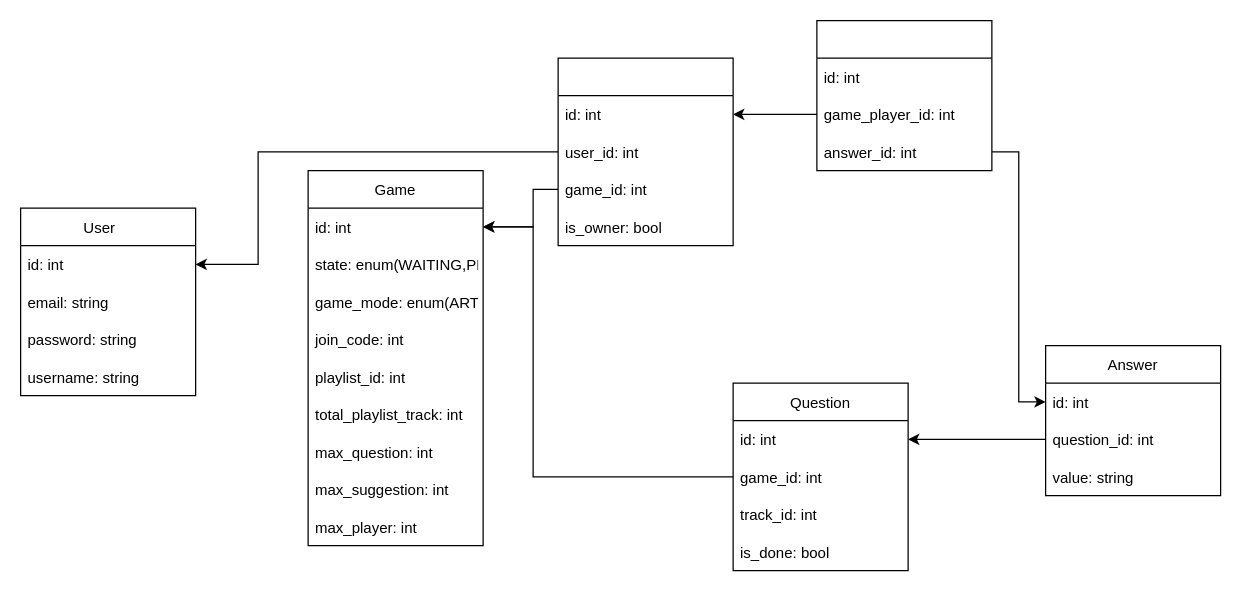
Image size: 1241x591. Some labels were removed from this diagram. The shapes that lost their labels are listed below. From the top down, each one's box as (x1, y1, x2, y2) in pixels, then its label:
(816, 19, 992, 171): Game_Player_Answer
(557, 57, 733, 246): Game_Player
